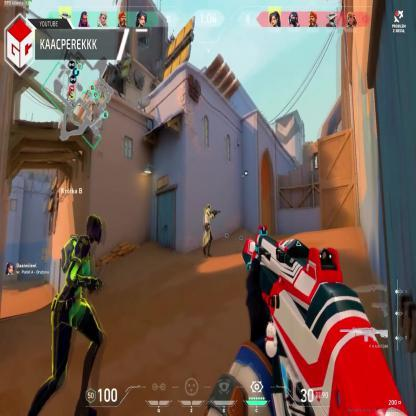enemy: (28, 208, 104, 416), (202, 204, 214, 258)
enemy_head: (86, 210, 102, 244)
